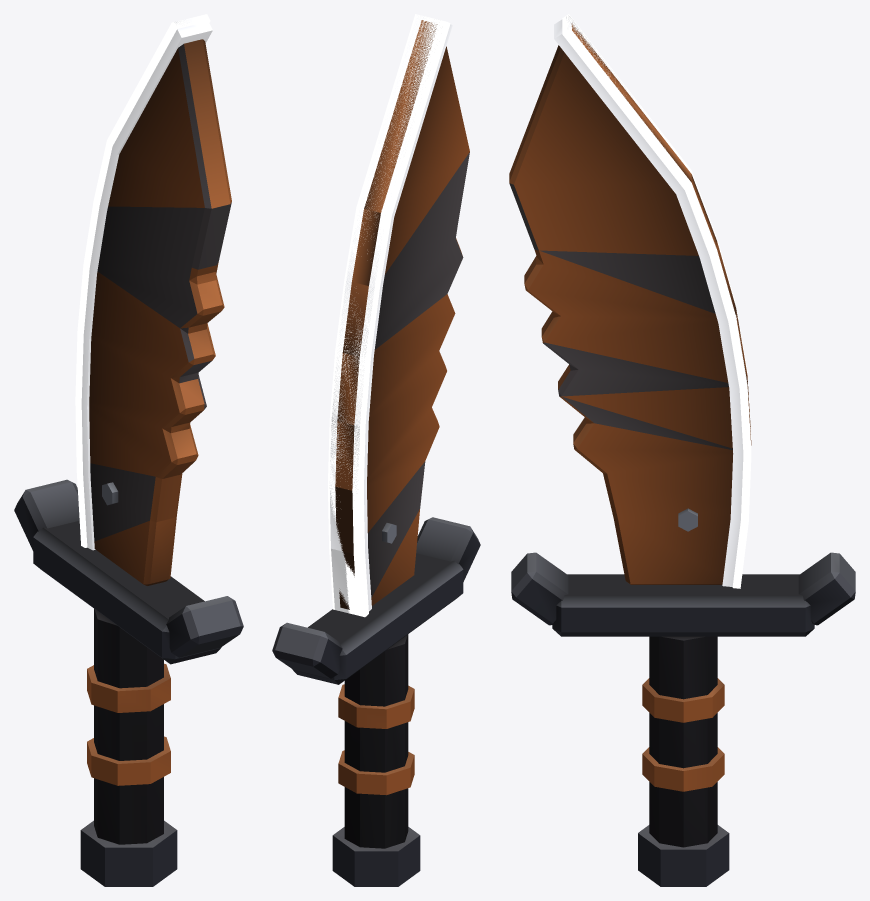
The model's file is Blade.glb.
3 views of the same model, side by side, from view 1: azimuth 30°, elevation 25°; view 2: azimuth 150°, elevation 25°; view 3: azimuth 270°, elevation 25° (orthographic). The views are drawn at different scales.
Parts seen in each view (by area): view 1: Body, Halo_Glow, Edge_Glow; view 2: Body, Edge_Glow, Halo_Glow; view 3: Body, Halo_Glow, Edge_Glow.
Boxes of the visible parts, x1,y1,x2,y2 form: Body: [14, 39, 243, 886]; Halo_Glow: [81, 14, 212, 550]; Edge_Glow: [75, 14, 210, 547]; Body: [272, 20, 480, 886]; Edge_Glow: [328, 14, 450, 617]; Halo_Glow: [330, 15, 452, 613]; Body: [509, 23, 855, 886]; Halo_Glow: [554, 15, 750, 586]; Edge_Glow: [562, 14, 751, 588].
Bounding box in the file's own units: 0.36 × 4.1 × 1.52.
